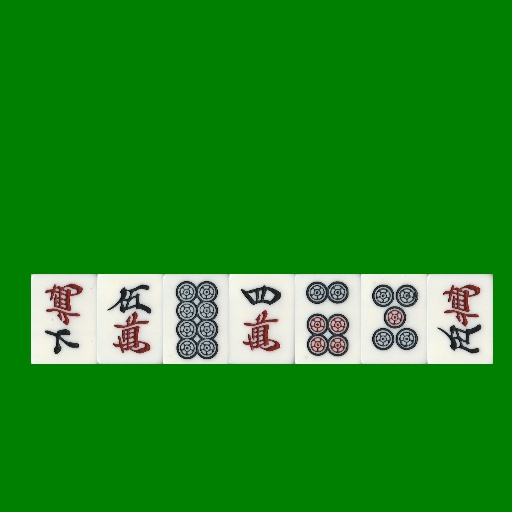4m: (229, 274, 295, 364)
5m: (97, 274, 163, 364), (427, 274, 493, 364)
5p: (361, 274, 427, 364)
6p: (295, 274, 361, 364)
7m: (31, 274, 97, 364)
8p: (163, 274, 229, 364)
